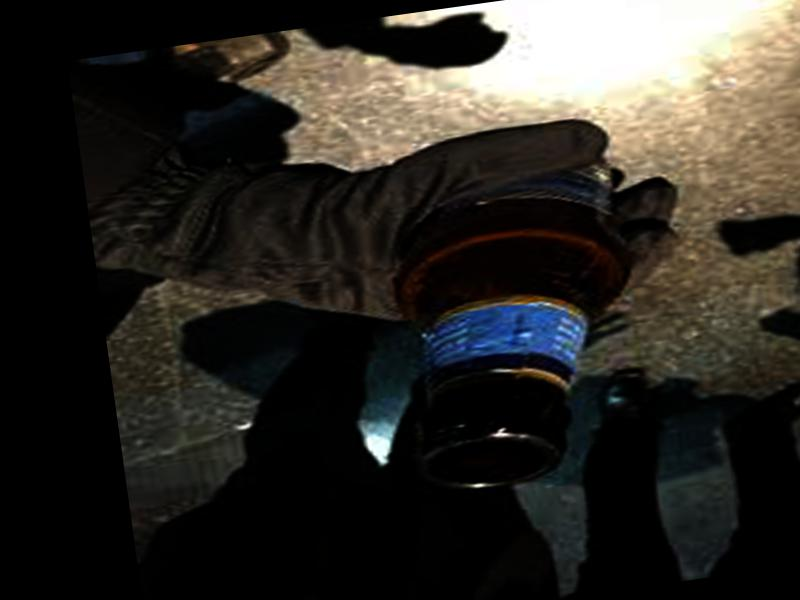Beer: (370, 132, 669, 498)
